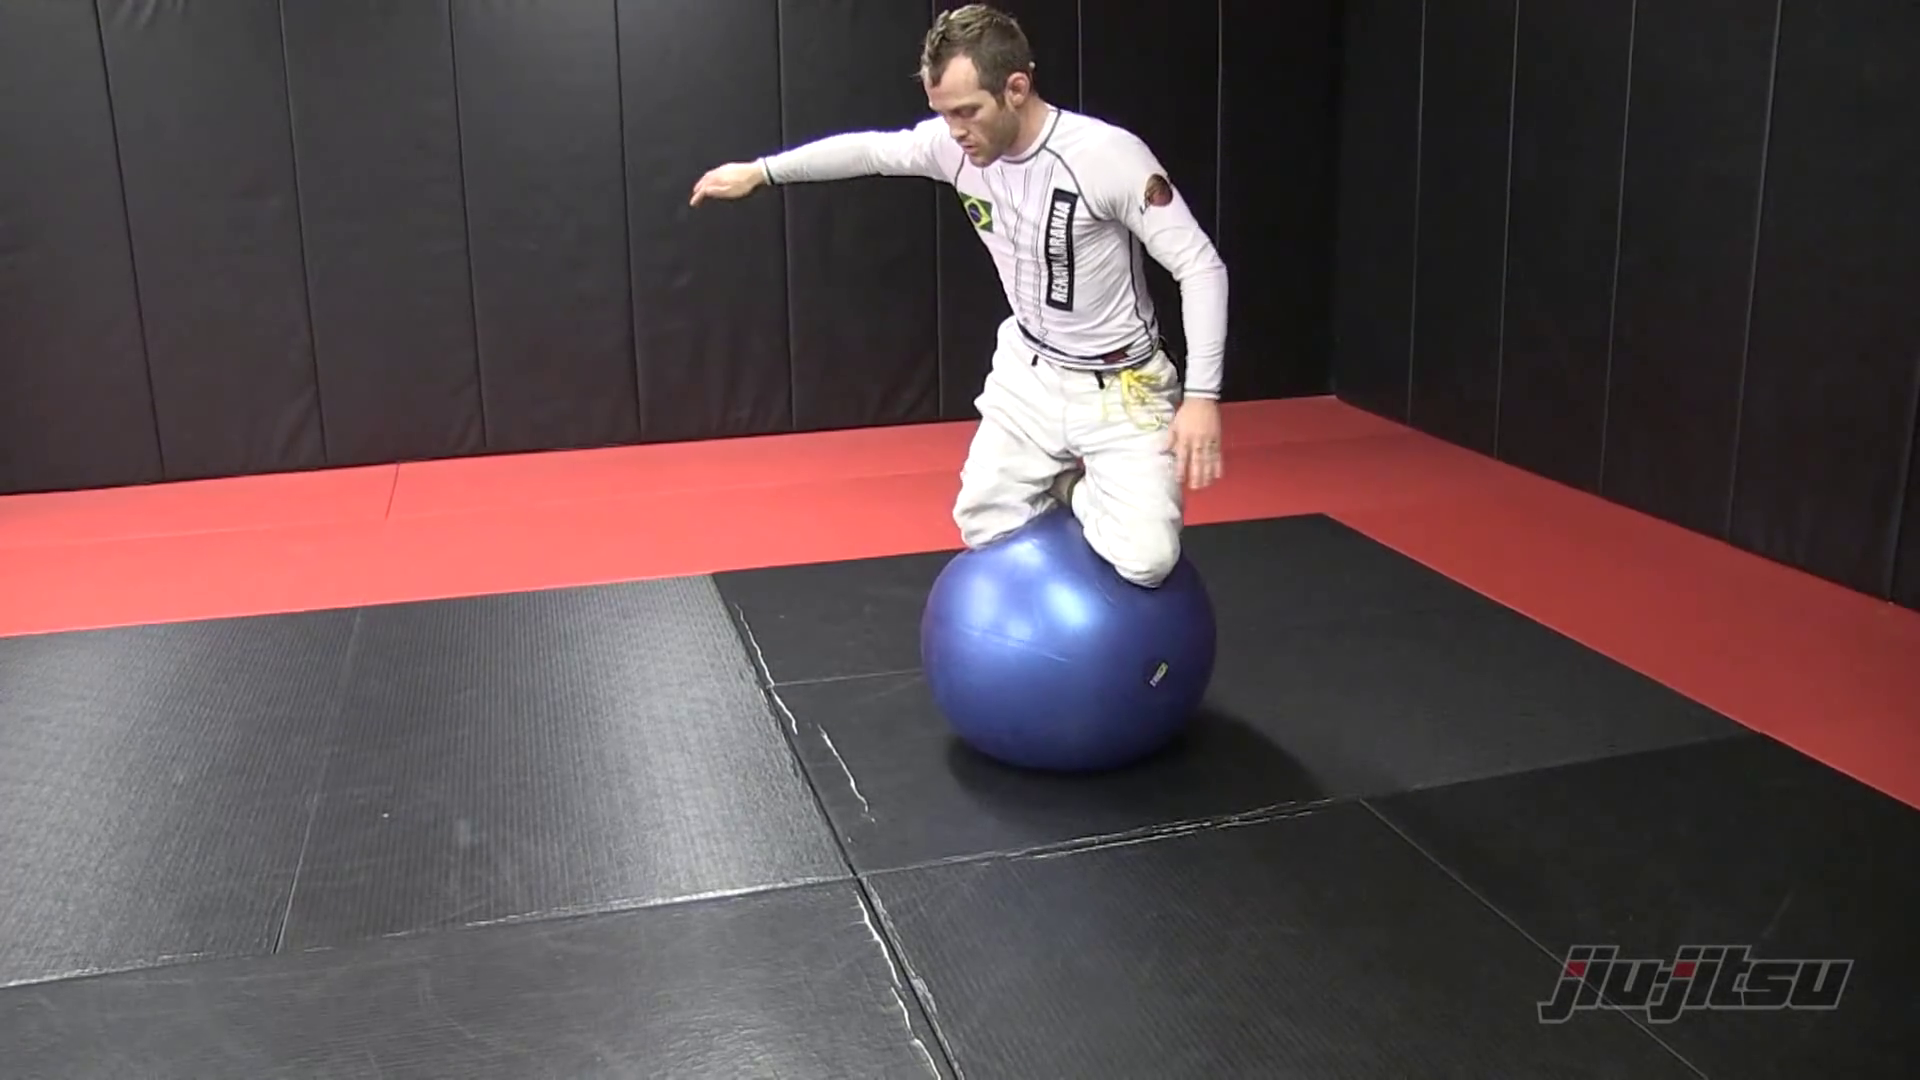yogaball: (906, 505, 1246, 795)
